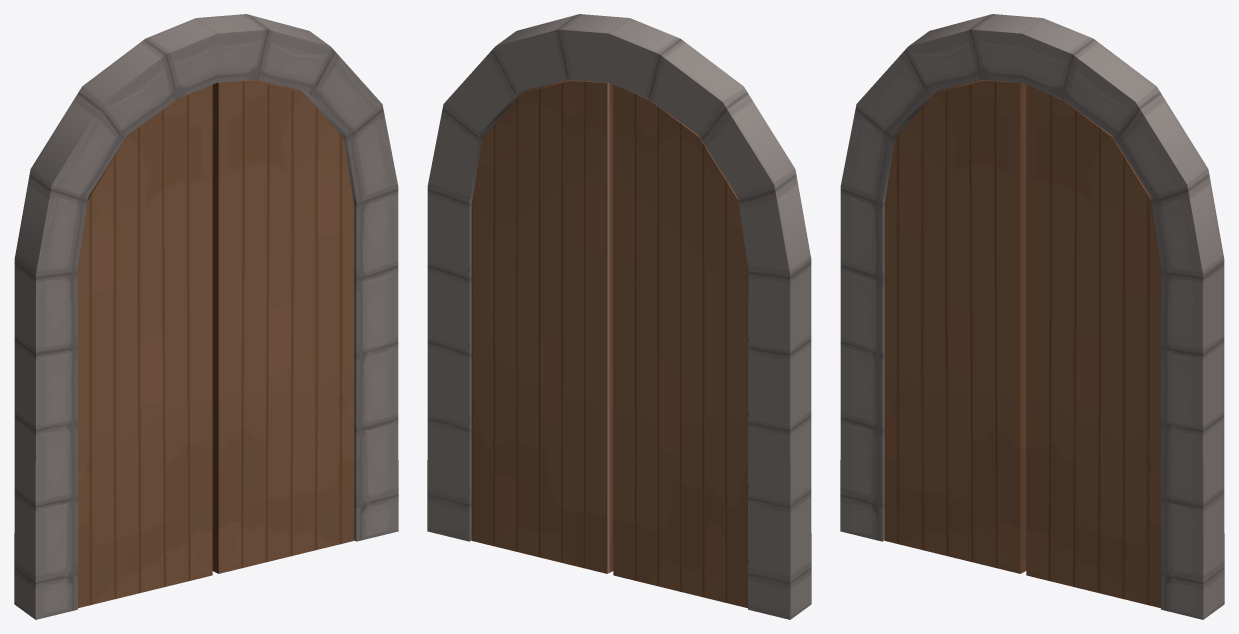
File: regularDoor_MESH 1.fbx
3 views of the same model, side by side, from view 1: azimuth 30°, elevation 25°; view 2: azimuth 150°, elevation 25°; view 3: azimuth 330°, elevation 25° (orthographic).
Parts seen in each view (by area): view 1: arch, leftDoor, rightDoor; view 2: arch, leftDoor, rightDoor; view 3: arch, rightDoor, leftDoor.
Part boxes in pixels (left/top/right/bottom): arch: left=14, top=14, right=398, bottom=619; leftDoor: left=212, top=80, right=354, bottom=573; rightDoor: left=77, top=85, right=212, bottom=608; arch: left=427, top=14, right=811, bottom=619; leftDoor: left=471, top=80, right=613, bottom=573; rightDoor: left=613, top=85, right=748, bottom=608; arch: left=840, top=14, right=1224, bottom=619; rightDoor: left=884, top=80, right=1026, bottom=573; leftDoor: left=1026, top=85, right=1161, bottom=608.
Size of the model in its own units: 13.41 by 19.15 by 1.36.
